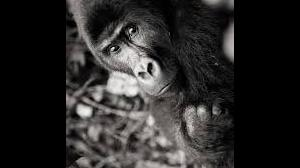gorille_Autres: (66, 0, 227, 159)
